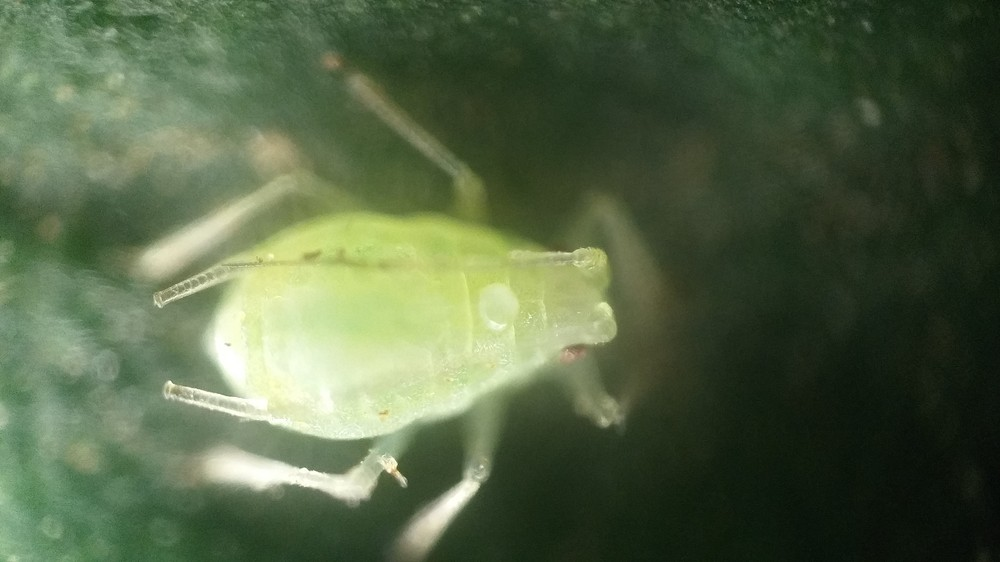Pulgon: (126, 82, 696, 556)
